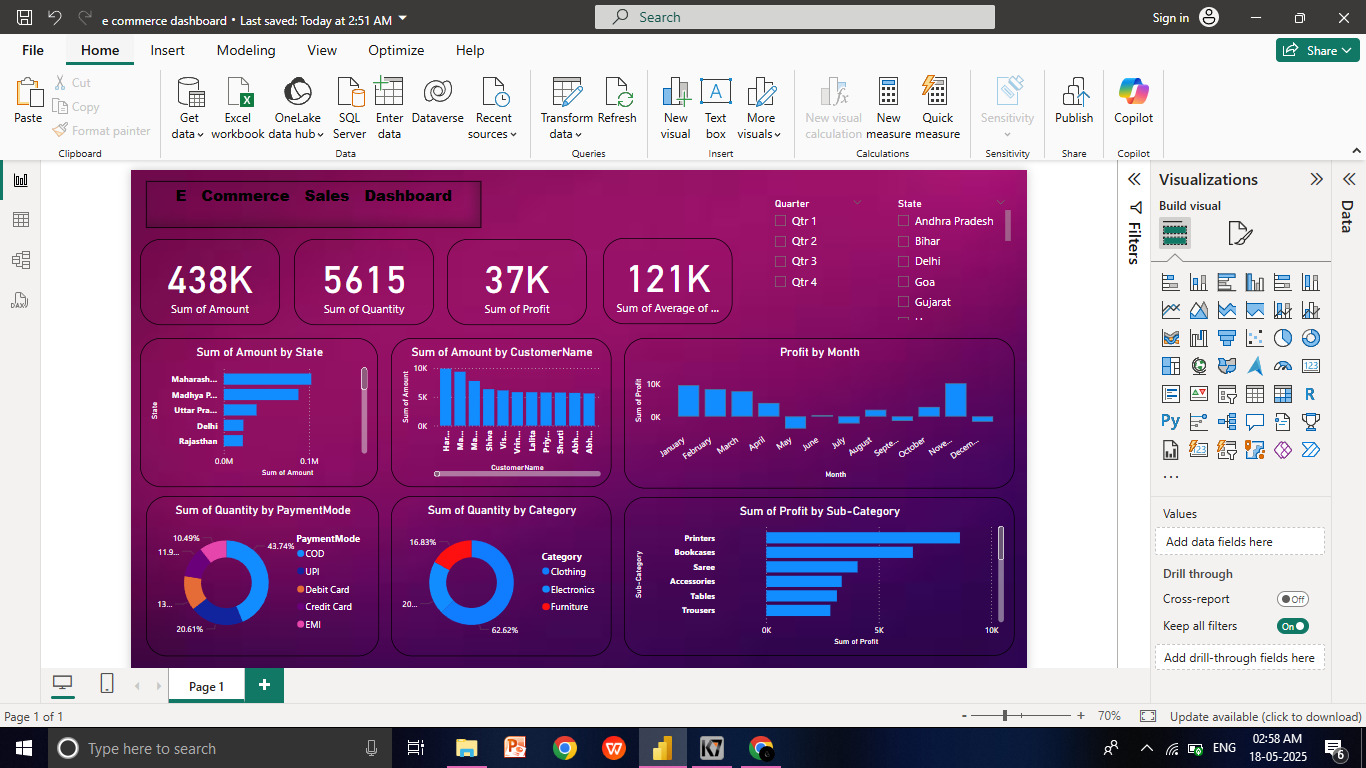

The page's visual inventory and layout, read from the dashboard file:
{"tool":"powerbi","page":{"name":"Page 1","canvas":[1280,720],"ordinal":0},"visuals":[{"type":"textbox","box":[21.2,15.4,478.8,67.3],"z":0},{"type":"columnChart","title":" Profit by Month","fields":{"Y":["Details.Profit"],"Category":["Orders.Order Date.Variation.Date Hierarchy.Month"]},"box":[703.8,240.4,557.7,215.4],"z":1000},{"type":"barChart","fields":{"Category":["Details.Sub-Category"],"Y":["Details.Profit"]},"box":[703.8,467.3,557.7,226.9],"z":2000},{"type":"donutChart","fields":{"Category":["Details.Category"],"Y":["Details.Quantity"]},"box":[371.2,465.4,315.4,228.8],"z":3000},{"type":"donutChart","fields":{"Y":["Details.Quantity"],"Category":["Details.PaymentMode"]},"box":[21.2,465.4,332.7,228.8],"z":4000},{"type":"card","fields":{"Values":["Details.Amount"]},"box":[13.1,98.4,200,123],"z":5000},{"type":"card","fields":{"Values":["Details.Quantity"]},"box":[232.8,98.4,200,123],"z":6000},{"type":"card","fields":{"Values":["Details.Profit"]},"box":[450.8,98.4,200,123],"z":7000},{"type":"card","fields":{"Values":["Details.Average of Amt & Qty"]},"box":[673.8,96.7,185.2,123],"z":8000},{"type":"barChart","fields":{"Category":["Orders.State"],"Y":["Details.Amount"]},"box":[13.5,240.4,340.4,213.5],"z":9000},{"type":"columnChart","fields":{"Category":["Orders.CustomerName"],"Y":["Details.Amount"]},"box":[371.2,240.4,315.4,213.5],"z":10000},{"type":"slicer","fields":{"Values":["Orders.Order Date.Variation.Date Hierarchy.Quarter"]},"box":[907.7,34.6,150,171.2],"z":11000},{"type":"slicer","fields":{"Values":["Orders.State"]},"box":[1082.7,34.6,178.8,184.6],"z":12000}]}

Visuals, with their boxes on the page's 1280x720 design canvas (x1, y1, x2, y2). These are canvas units, not pixel positions in the 1366x768 screenshot, which may show the page scaled, cropped or inside an application window:
textbox: (21, 15, 500, 83)
" Profit by Month" columnChart: (704, 240, 1262, 456)
barChart - Details.Sub-Category x Details.Profit: (704, 467, 1262, 694)
donutChart - Details.Category x Details.Quantity: (371, 465, 687, 694)
donutChart - Details.Quantity x Details.PaymentMode: (21, 465, 354, 694)
card - Details.Amount: (13, 98, 213, 221)
card - Details.Quantity: (233, 98, 433, 221)
card - Details.Profit: (451, 98, 651, 221)
card - Details.Average of Amt & Qty: (674, 97, 859, 220)
barChart - Orders.State x Details.Amount: (14, 240, 354, 454)
columnChart - Orders.CustomerName x Details.Amount: (371, 240, 687, 454)
slicer - Orders.Order Date.Variation.Date Hierarchy.Quarter: (908, 35, 1058, 206)
slicer - Orders.State: (1083, 35, 1262, 219)
